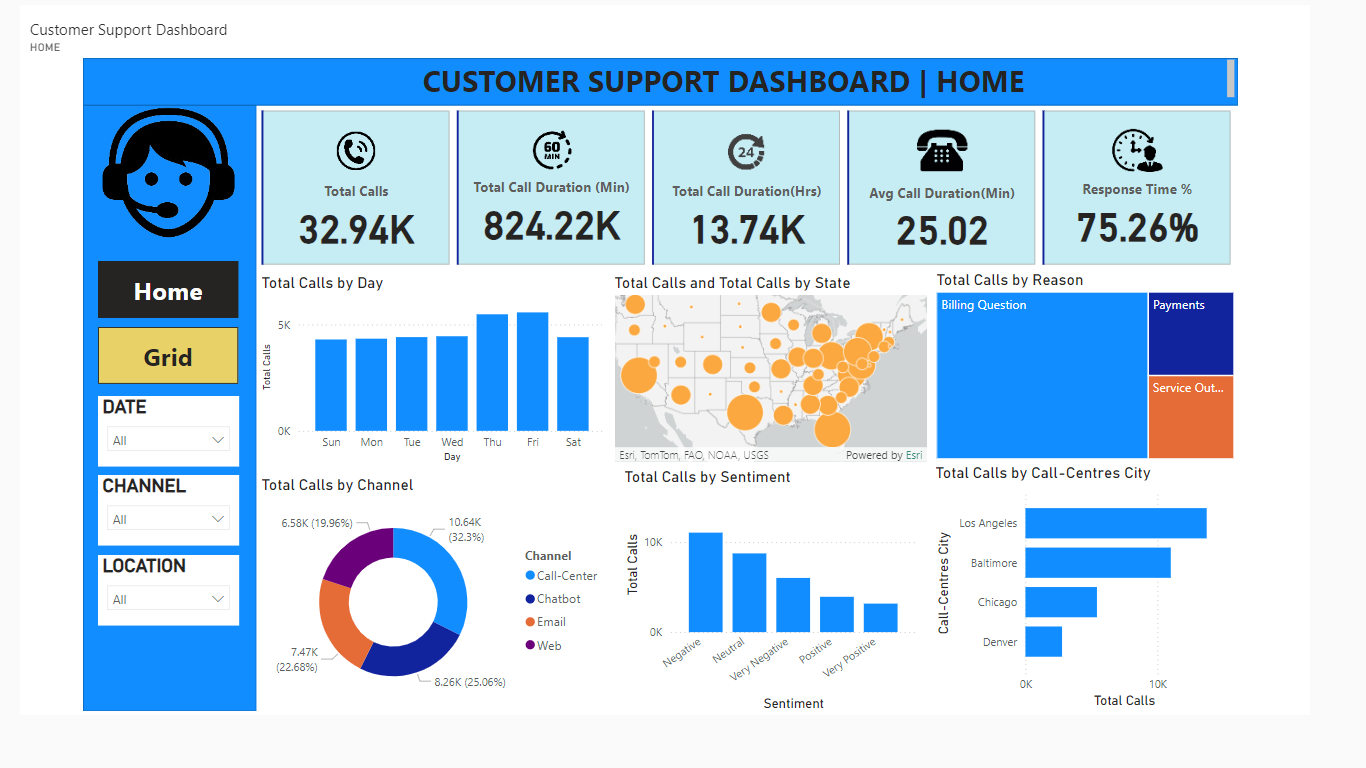

The page's visual inventory and layout, read from the dashboard file:
{"tool":"powerbi","page":{"name":"Home","canvas":[1280,720],"ordinal":0},"visuals":[{"type":"shape","box":[5.4,3.6,1260.3,51.8],"z":0},{"type":"shape","box":[5.3,54.7,189.3,661.3],"z":1000},{"type":"cardVisual","fields":{"Data":["Call Center_Call Center.Total Calls","Call Center_Call Center.Total Call Duration (Min)","Call Center_Call Center.Total Call Duration(Hrs)","Call Center_Call Center.Avg Call Duration(Min)","Call Center_Call Center.Response Time %"]},"box":[195.5,55.7,1070.2,178.4],"z":2000},{"type":"columnChart","fields":{"Y":["Call Center_Call Center.Total Calls"],"Category":["Date Table.Day"]},"box":[195.5,238.3,385.3,211.2],"z":3000},{"type":"treemap","fields":{"Group":["Call Center_Call Center.Reason"],"Values":["Call Center_Call Center.Total Calls"]},"box":[931.4,234.2,334.3,210.9],"z":4000},{"type":"donutChart","fields":{"Category":["Call Center_Call Center.Channel"],"Y":["Call Center_Call Center.Total Calls"]},"box":[195.5,458.1,385.3,258.3],"z":5000},{"type":"columnChart","fields":{"Y":["Call Center_Call Center.Total Calls"],"Category":["Call Center_Call Center.Sentiment"]},"box":[590.8,449.5,328.2,271.1],"z":6000},{"type":"barChart","fields":{"Category":["Call Center_Call Center.Call-Centres City"],"Y":["Call Center_Call Center.Total Calls"]},"box":[931,445,334,272],"z":7000},{"type":"textbox","box":[150.2,0,1115.5,51.8],"z":8000},{"type":"slicer","title":"DATE","fields":{"Values":["Date Table.Date"]},"box":[21.5,371.8,153.7,76.9],"z":9000},{"type":"slicer","title":"LOCATION","fields":{"Values":["Call Center_Call Center.State"]},"box":[21.5,545.3,153.7,76.9],"z":10000},{"type":"slicer","title":"CHANNEL","fields":{"Values":["Call Center_Call Center.Channel"]},"box":[21.5,457.7,153.7,76.9],"z":11000},{"type":"pageNavigator","box":[21.5,225.3,153.7,135.9],"z":12000},{"type":"image","box":[21.4,51.4,154.1,154.1],"z":13000},{"type":"esriVisual","fields":{"Location":["Call Center_Call Center.State"],"Size":["Call Center_Call Center.Total Calls"]},"box":[580,238,351,211],"z":14000}]}

Visuals, with their boxes on the page's 1280x720 design canvas (x1, y1, x2, y2). These are canvas units, not pixel positions in the 1366x768 screenshot, which may show the page scaled, cropped or inside an application window:
shape: region(5, 4, 1266, 55)
shape: region(5, 55, 195, 716)
cardVisual - Call Center_Call Center.Total Calls x Call Center_Call Center.Total Call Duration (Min): region(196, 56, 1266, 234)
columnChart - Call Center_Call Center.Total Calls x Date Table.Day: region(196, 238, 581, 450)
treemap - Call Center_Call Center.Reason x Call Center_Call Center.Total Calls: region(931, 234, 1266, 445)
donutChart - Call Center_Call Center.Channel x Call Center_Call Center.Total Calls: region(196, 458, 581, 716)
columnChart - Call Center_Call Center.Total Calls x Call Center_Call Center.Sentiment: region(591, 450, 919, 721)
barChart - Call Center_Call Center.Call-Centres City x Call Center_Call Center.Total Calls: region(931, 445, 1265, 717)
textbox: region(150, 0, 1266, 52)
"DATE" slicer: region(22, 372, 175, 449)
"LOCATION" slicer: region(22, 545, 175, 622)
"CHANNEL" slicer: region(22, 458, 175, 535)
pageNavigator: region(22, 225, 175, 361)
image: region(21, 51, 176, 206)
esriVisual - Call Center_Call Center.State x Call Center_Call Center.Total Calls: region(580, 238, 931, 449)
